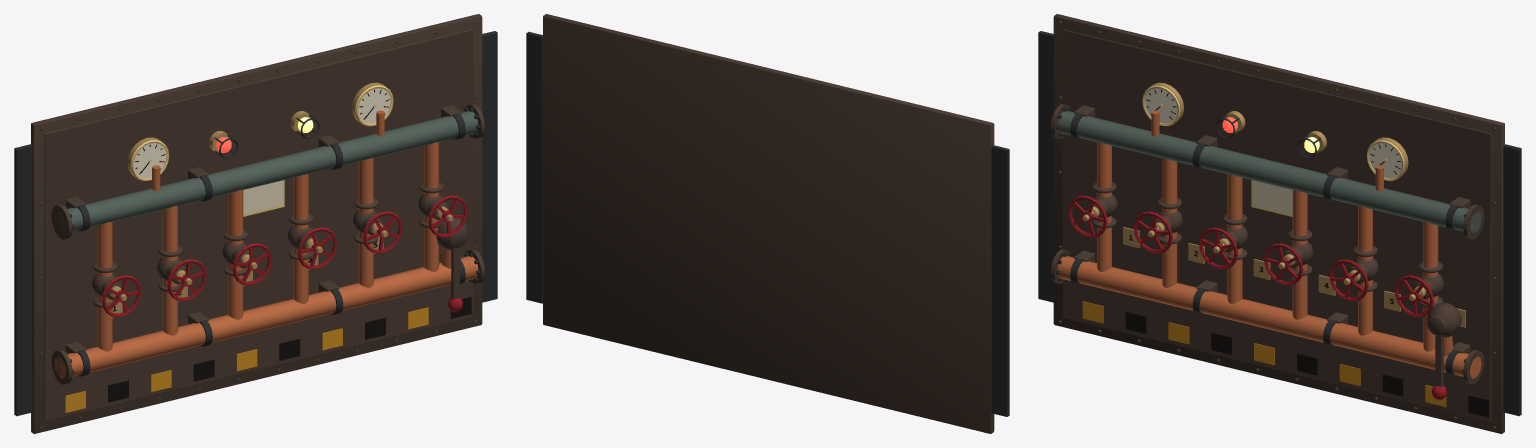
File: manifold_plate.glb
3 views of the same model, side by side, from view 1: azimuth 30°, elevation 25°; view 2: azimuth 150°, elevation 25°; view 3: azimuth 330°, elevation 25° (orthographic).
Visible parts, largest first — view 1: manifold_body, diagram_plate, IA_valve_0, IA_valve_2, IA_valve_1, IA_valve_5, IA_valve_4, IA_valve_3, IA_ram_lever; view 2: manifold_body; view 3: manifold_body, diagram_plate, IA_valve_3, IA_valve_4, IA_valve_5, IA_valve_0, IA_valve_1, IA_valve_2, IA_ram_lever.
Boxes of the visible parts, x1,y1,x2,y2 form: manifold_body: [14, 14, 497, 433]; diagram_plate: [243, 180, 282, 214]; IA_valve_0: [102, 275, 141, 317]; IA_valve_2: [232, 243, 271, 285]; IA_valve_1: [167, 259, 206, 301]; IA_valve_5: [428, 195, 467, 237]; IA_valve_4: [363, 211, 402, 253]; IA_valve_3: [298, 227, 336, 269]; IA_ram_lever: [447, 247, 463, 312]; manifold_body: [526, 14, 1009, 433]; manifold_body: [1038, 14, 1521, 433]; diagram_plate: [1253, 180, 1292, 214]; IA_valve_3: [1264, 243, 1303, 285]; IA_valve_4: [1329, 259, 1368, 301]; IA_valve_5: [1394, 275, 1433, 317]; IA_valve_0: [1068, 195, 1107, 237]; IA_valve_1: [1133, 211, 1172, 253]; IA_valve_2: [1199, 227, 1237, 269]; IA_ram_lever: [1431, 335, 1447, 399].
Bounding box in the file's own units: 2.36 × 1.45 × 0.2815.
